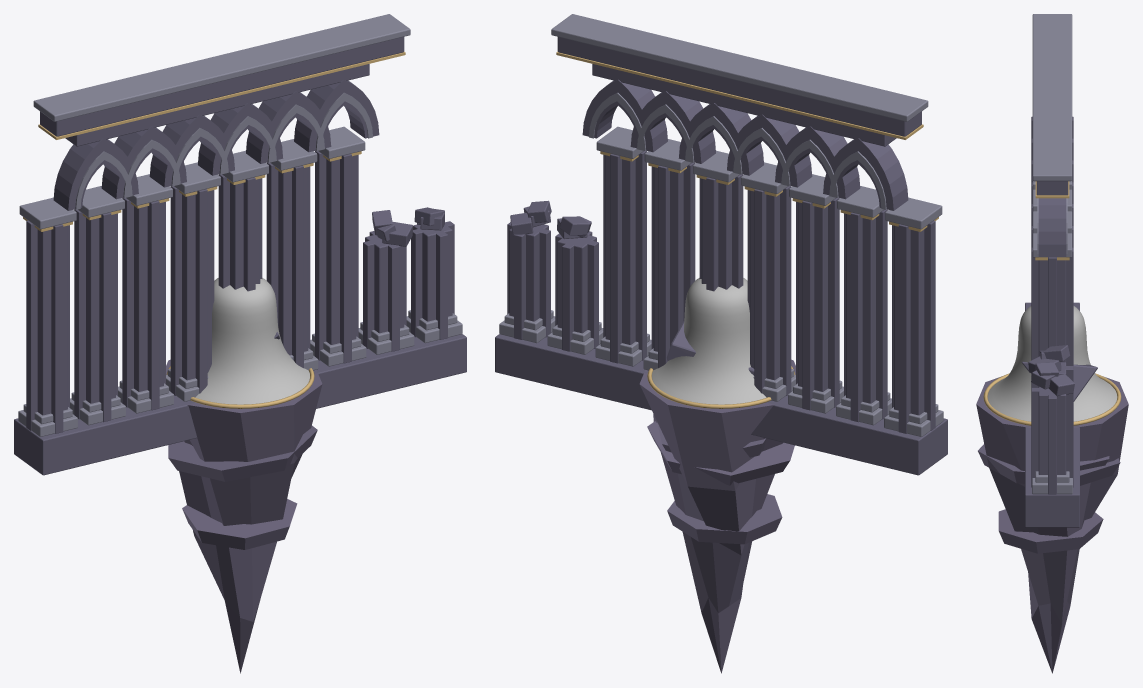
File: Void.fbx
3 views of the same model, side by side, from view 1: azimuth 30°, elevation 25°; view 2: azimuth 150°, elevation 25°; view 3: azimuth 270°, elevation 25° (orthographic). The views are drawn at different scales.
Parts seen in each view (by area): view 1: Arcade_3, Arcade_2, Arcade_4, SpireChunk_3, Hanging_Bell; view 2: Arcade_3, Arcade_2, Arcade_4, SpireChunk_3, Hanging_Bell; view 3: SpireChunk_3, Arcade_4, Arcade_2, Arcade_3, Hanging_Bell, SpireChunk_2.
Part boxes in pixels (x1=…): Arcade_3: x1=70, y1=14, x2=418, y2=463; Arcade_2: x1=118, y1=26, x2=370, y2=451; Arcade_4: x1=14, y1=43, x2=466, y2=475; SpireChunk_3: x1=166, y1=332, x2=322, y2=673; Hanging_Bell: x1=166, y1=278, x2=314, y2=408; Arcade_3: x1=543, y1=14, x2=891, y2=463; Arcade_2: x1=591, y1=26, x2=843, y2=451; Arcade_4: x1=495, y1=43, x2=947, y2=475; SpireChunk_3: x1=639, y1=321, x2=795, y2=673; Hanging_Bell: x1=647, y1=278, x2=795, y2=408; SpireChunk_3: x1=976, y1=361, x2=1128, y2=673; Arcade_4: x1=1025, y1=14, x2=1079, y2=527; Arcade_2: x1=1025, y1=52, x2=1079, y2=450; Arcade_3: x1=1025, y1=30, x2=1079, y2=472; Hanging_Bell: x1=983, y1=306, x2=1121, y2=425; SpireChunk_2: x1=1080, y1=456, x2=1109, y2=470.
Size of the model in its own units: 15 by 20.73 by 5.02.
